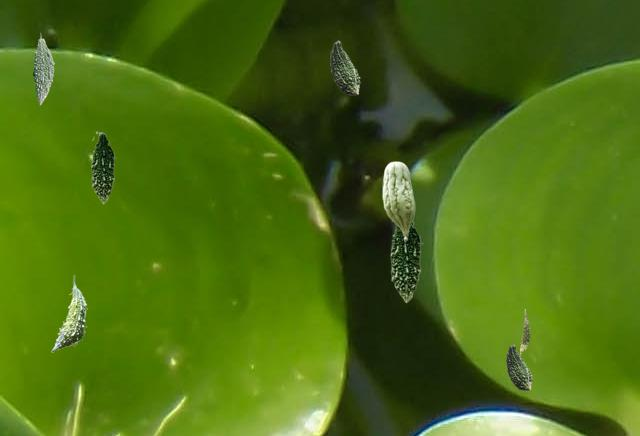ampalaya: (51, 275, 86, 351), (390, 221, 422, 302), (382, 161, 414, 241), (91, 131, 115, 203), (330, 40, 359, 94), (33, 32, 53, 104), (506, 344, 531, 389), (520, 309, 529, 354)
